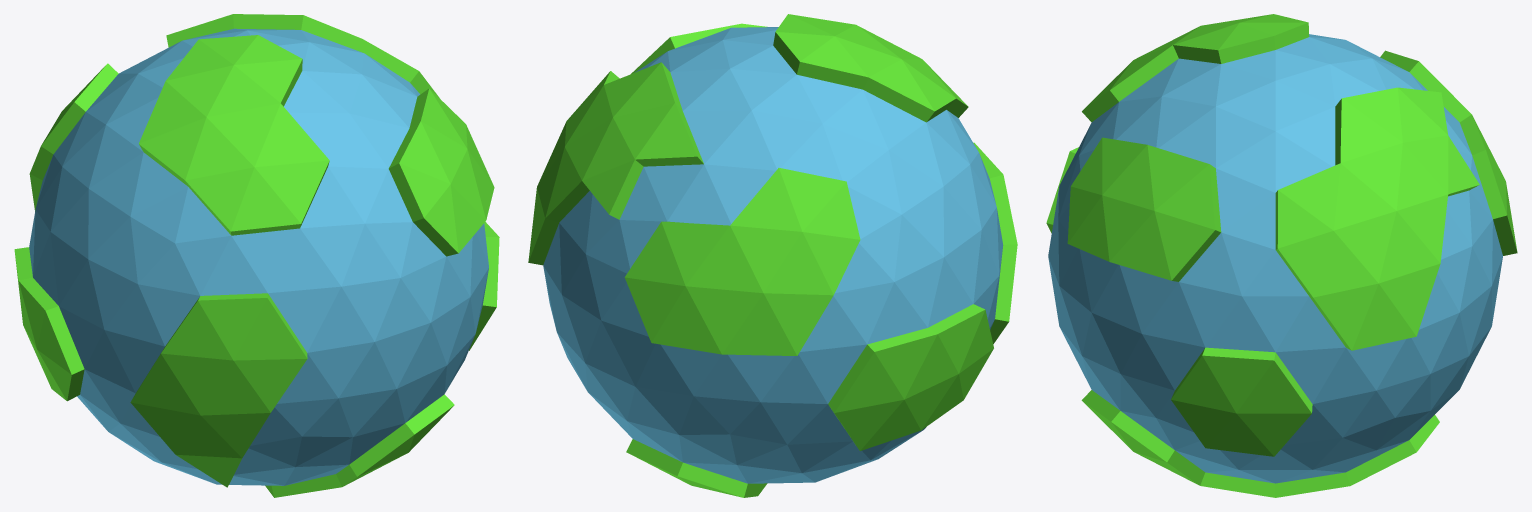
The model's file is Planet.glb.
3 views of the same model, side by side, from view 1: azimuth 30°, elevation 25°; view 2: azimuth 150°, elevation 25°; view 3: azimuth 270°, elevation 25° (orthographic).
Visible parts, largest first — view 1: Planet_01; view 2: Planet_01; view 3: Planet_01.
Part boxes in pixels (x1,y1,x2,y2): Planet_01: (14, 14, 499, 497); Planet_01: (528, 14, 1017, 497); Planet_01: (1046, 14, 1517, 497).
Size of the model in its own units: 2.13 by 2.13 by 2.07.
